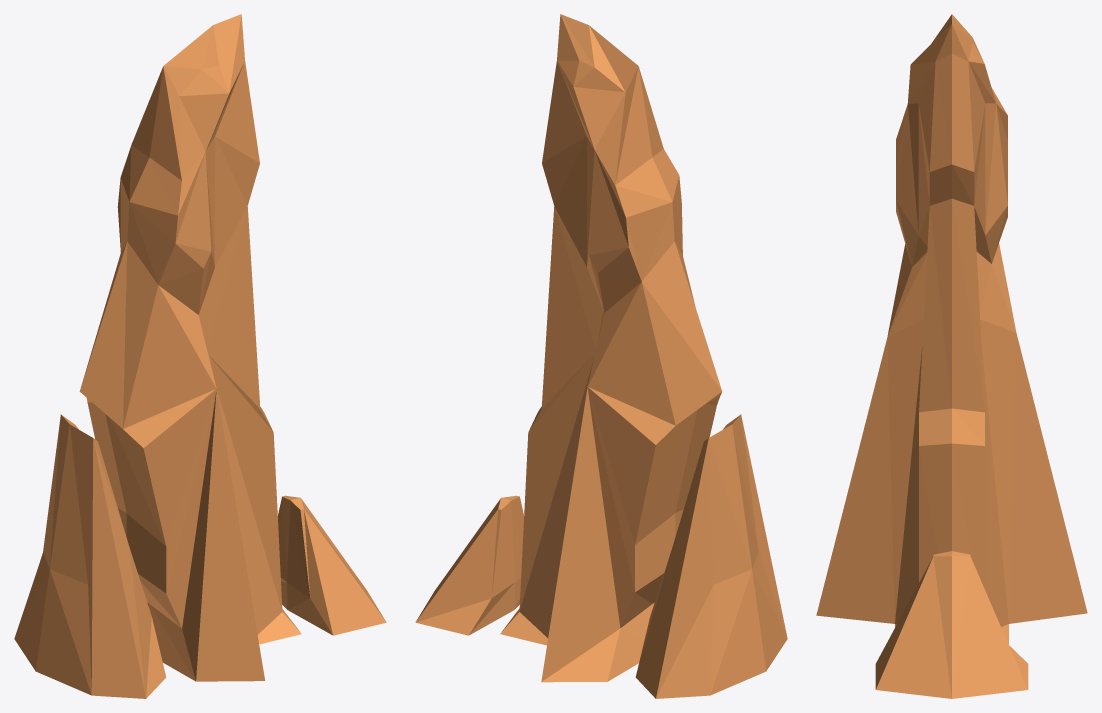
The model's file is Rock_Large_Canyon_Eroded_10.FBX.
3 renders of one model, left to right at view 1: azimuth 30°, elevation 25°; view 2: azimuth 150°, elevation 25°; view 3: azimuth 270°, elevation 25°, orthographic.
Parts seen in each view (by area): view 1: Rock_Large_Canyon_Eroded_10; view 2: Rock_Large_Canyon_Eroded_10; view 3: Rock_Large_Canyon_Eroded_10.
Part boxes in pixels (box(x1,y1,x2,y2)): Rock_Large_Canyon_Eroded_10: box(14, 14, 386, 698); Rock_Large_Canyon_Eroded_10: box(415, 14, 787, 698); Rock_Large_Canyon_Eroded_10: box(816, 14, 1087, 698).
Bounding box in the file's own units: 6839 × 11972 × 4803.
